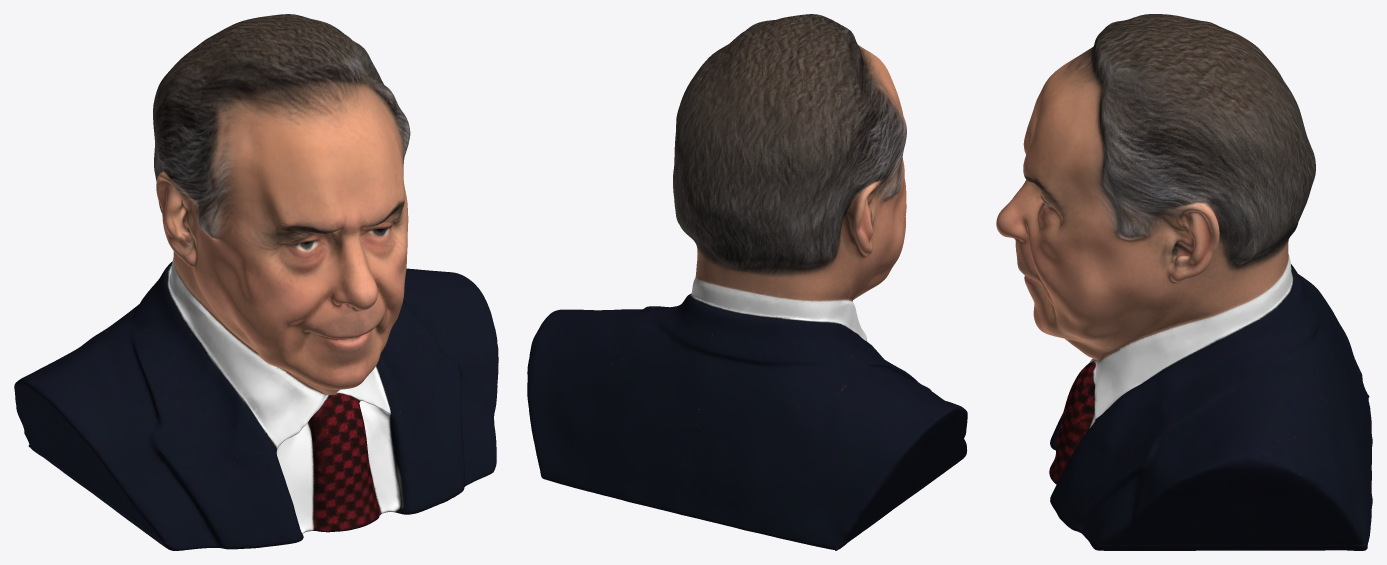
File: Meshy_AI_Distinguished_Executi_1024133318_texture-balanced-compressed.glb
3 renders of one model, left to right at view 1: azimuth 30°, elevation 25°; view 2: azimuth 150°, elevation 25°; view 3: azimuth 270°, elevation 25°, orthographic. The views are drawn at different scales.
Bounding box in the file's own units: 1.87 × 1.9 × 1.46.
Materials: 1 (1 with a texture image).
